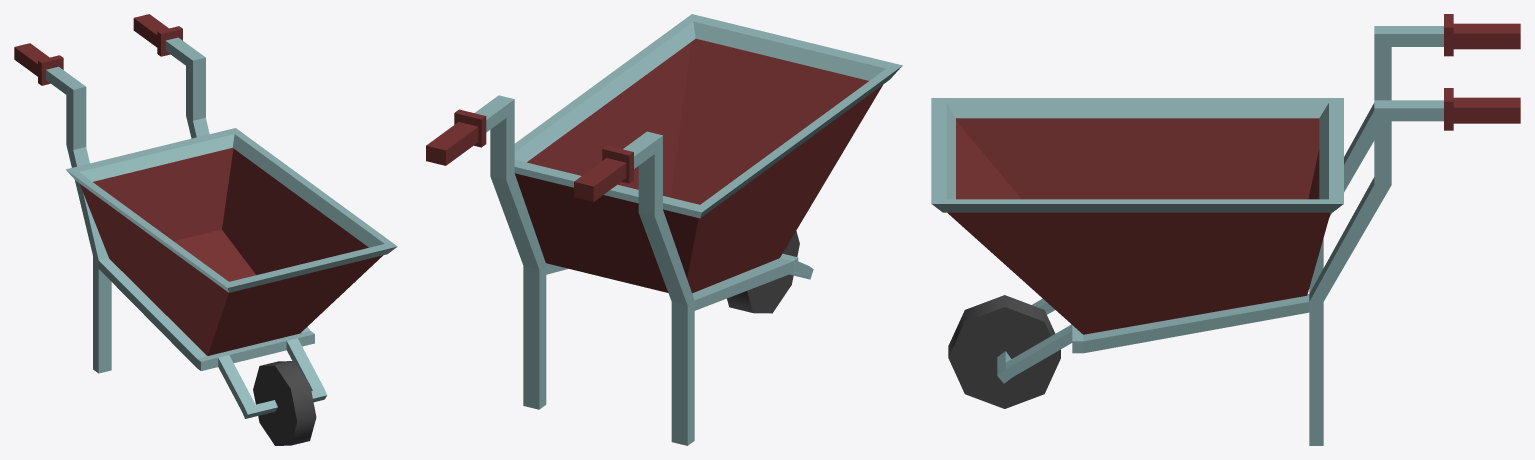
File: Waste picker_2.FBX
The picture shows the model from 3 angles, left to right: view 1: azimuth 30°, elevation 25°; view 2: azimuth 150°, elevation 25°; view 3: azimuth 270°, elevation 25°; orthographic projection. The views are drawn at different scales.
Parts seen in each view (by area): view 1: Waste picker_2; view 2: Waste picker_2; view 3: Waste picker_2.
Part boxes in pixels (x1,y1,x2,y2): Waste picker_2: (14, 14, 397, 445); Waste picker_2: (426, 14, 902, 445); Waste picker_2: (931, 14, 1520, 445).
Bounding box in the file's own units: 0.6829 × 1.05 × 1.61.
1 material, 1 textured.
